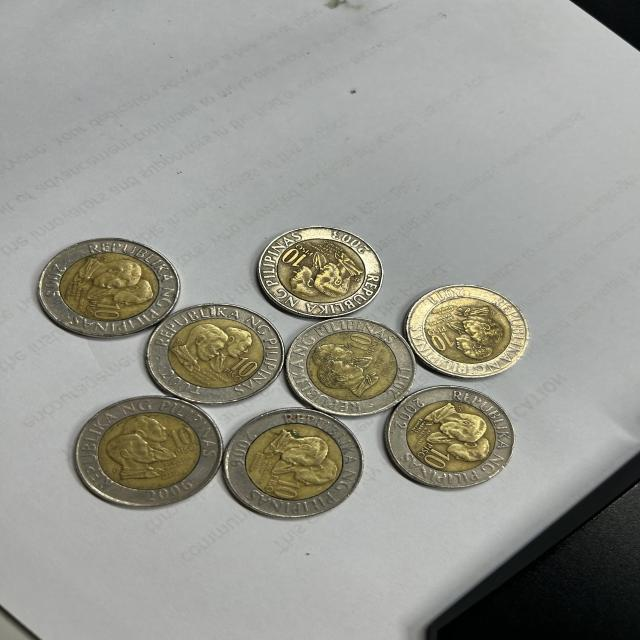10_Old_Front: (420, 447, 452, 470), (92, 300, 124, 320), (274, 477, 300, 499), (341, 333, 372, 351), (169, 426, 196, 446), (232, 359, 260, 378), (432, 332, 456, 354), (280, 250, 307, 266)
